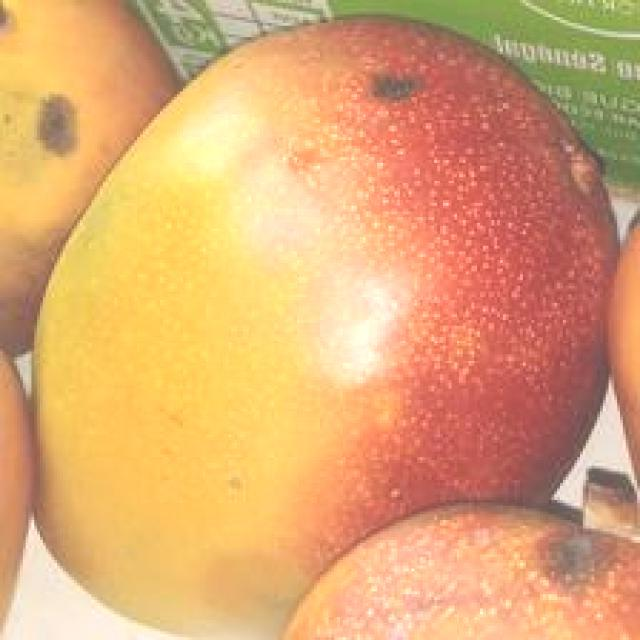Mango: (0, 28, 637, 614), (0, 0, 188, 353), (279, 503, 639, 640)
